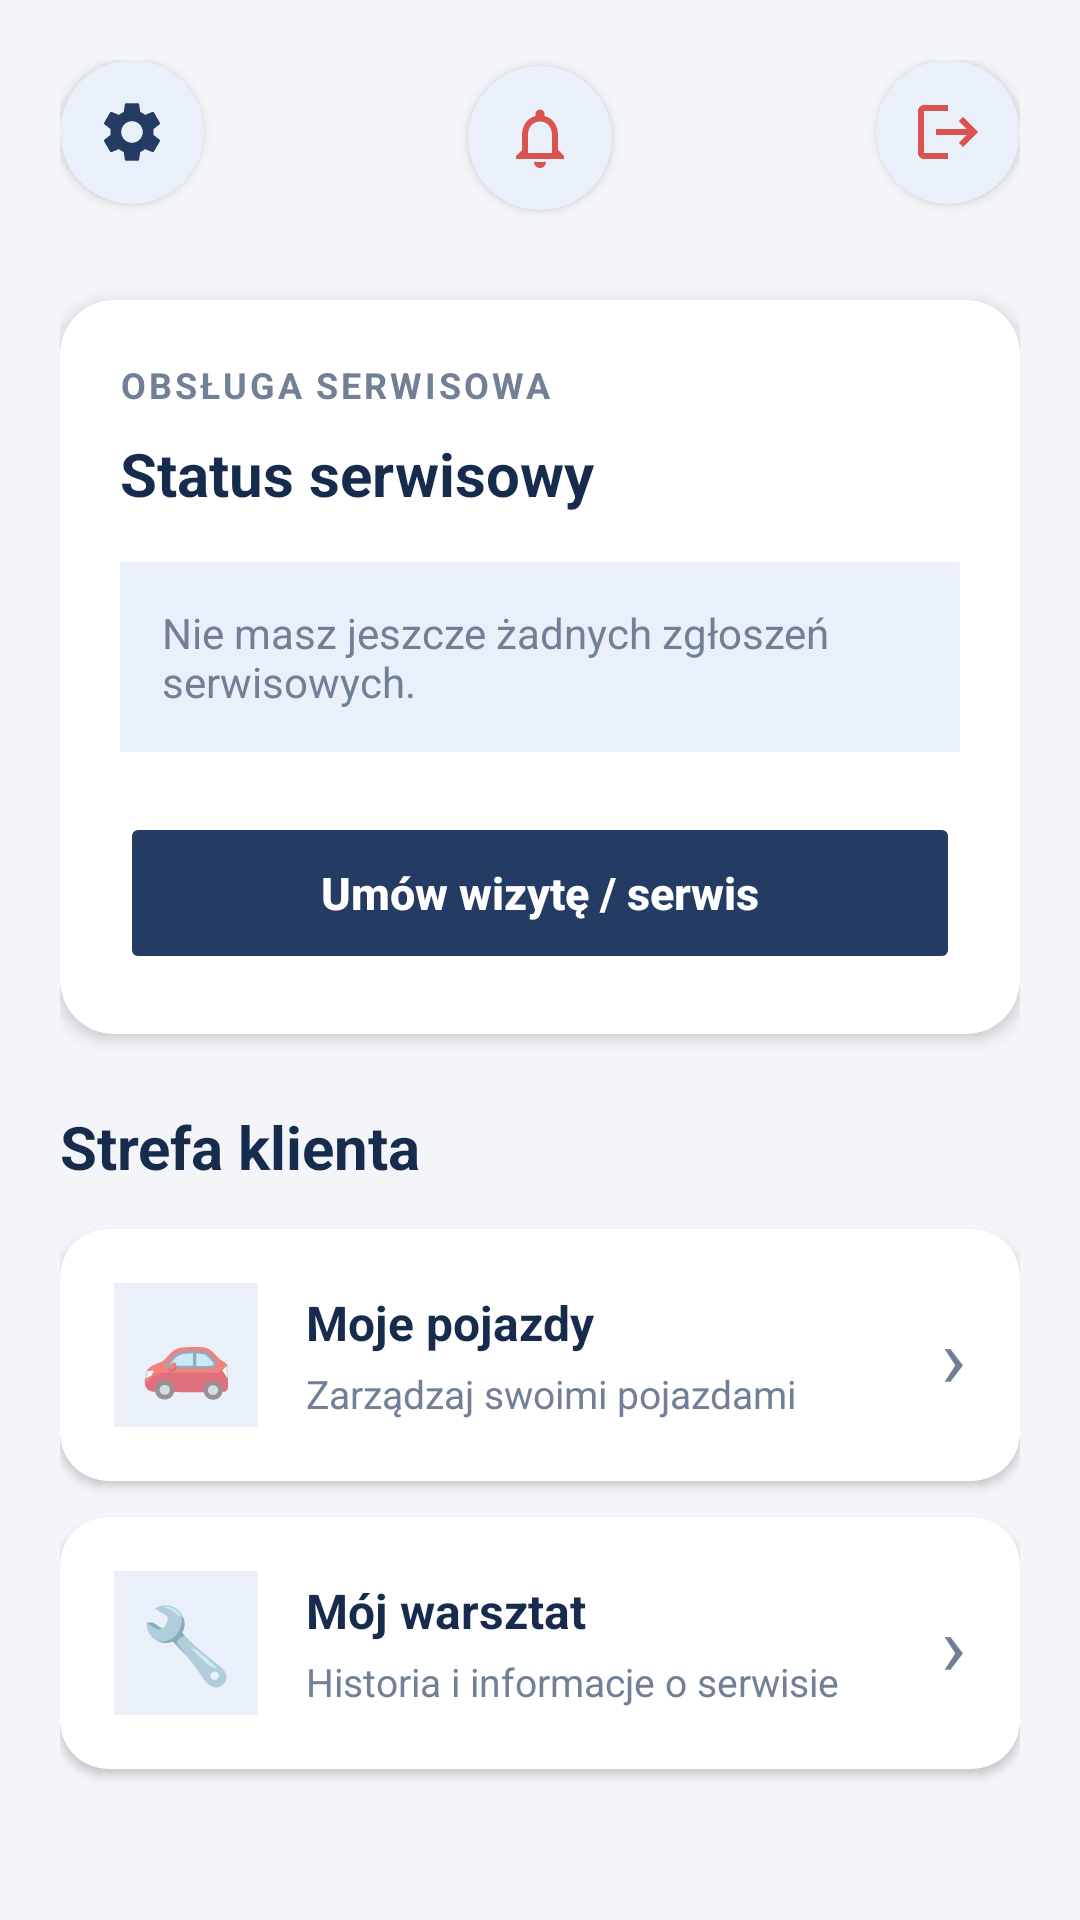

Where to tap for icons on this 1080 x 1920 app screen, as (x,y):
Powiadomienia: (540,138)
Ustawienia: (132,132)
